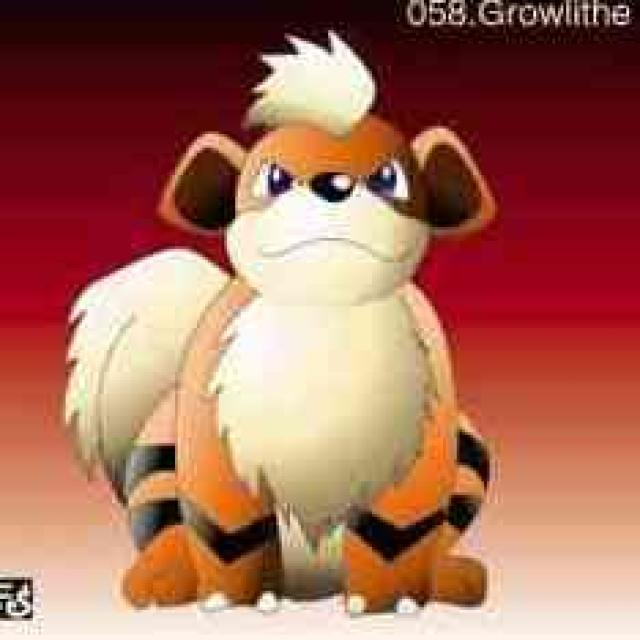Growlithe: (117, 35, 498, 602)
